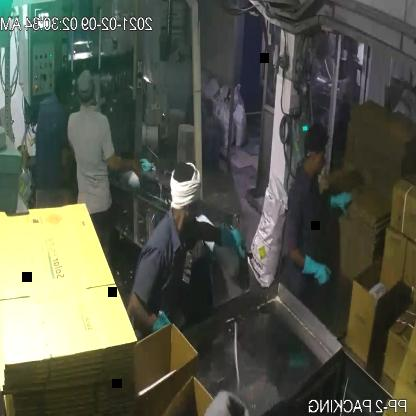glove: (210, 220, 250, 266), (293, 248, 336, 290), (322, 180, 356, 223)
no_glove: (108, 138, 150, 180)
